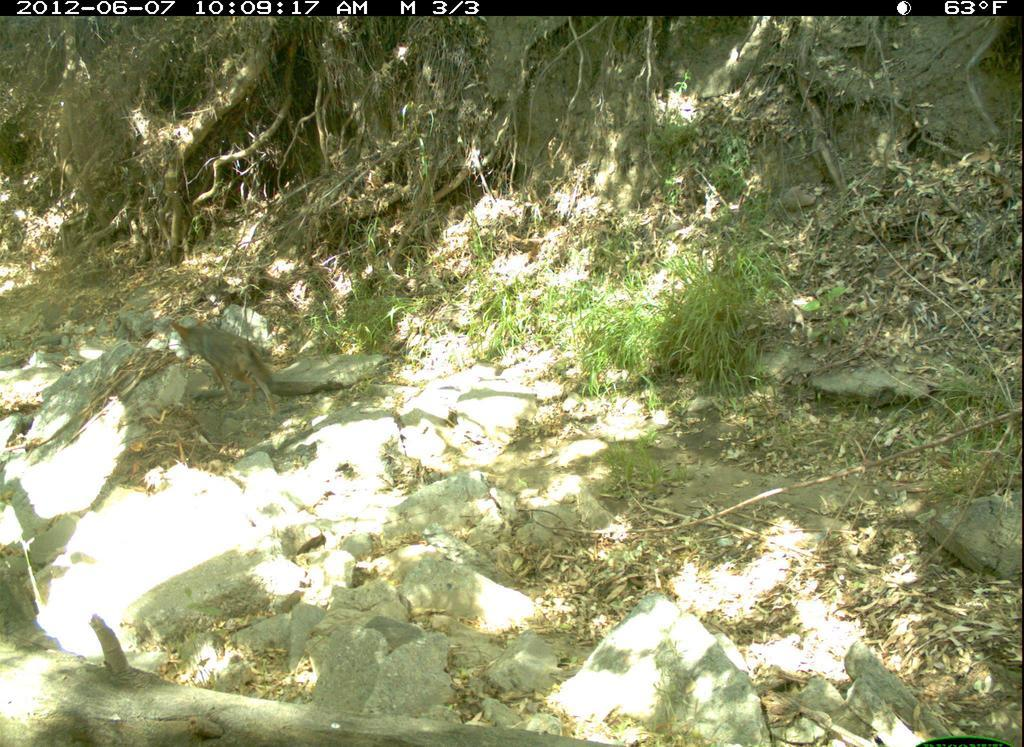coyote: (157, 308, 324, 433)
